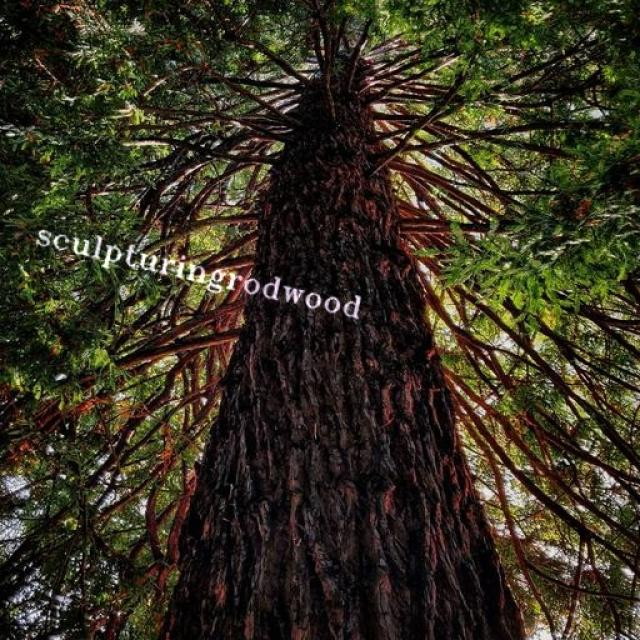watermark: (26, 220, 382, 323)
